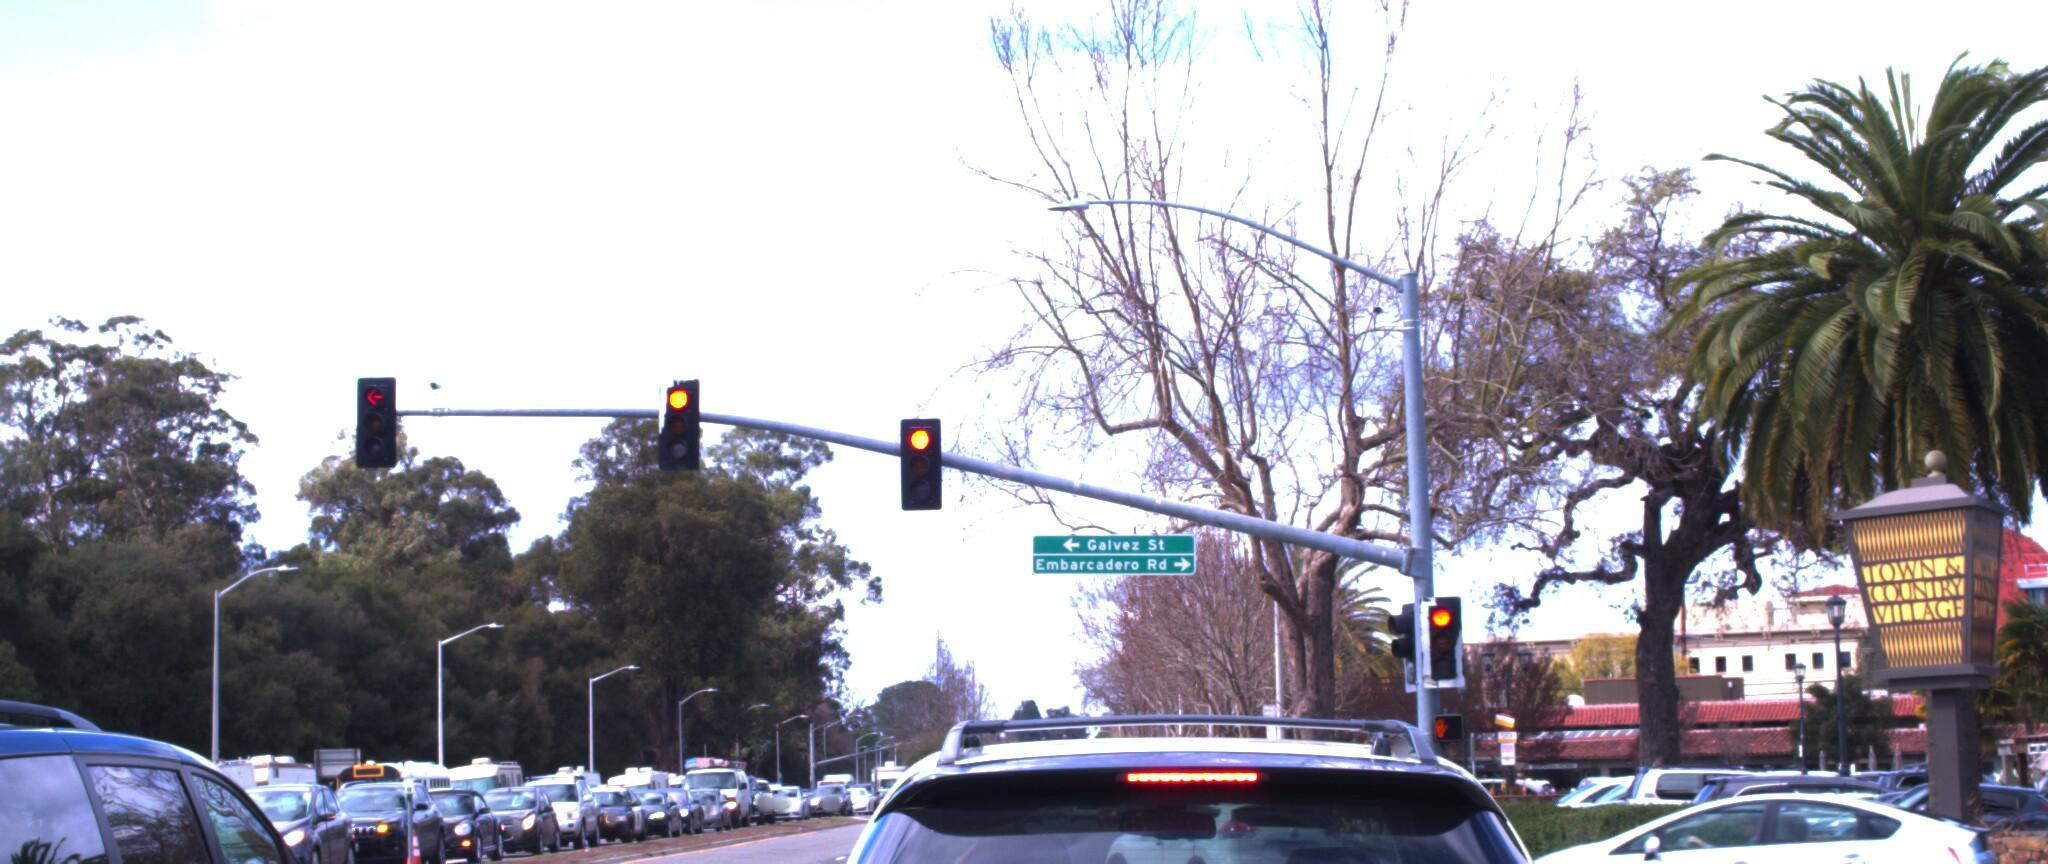car: (683, 676, 1721, 864), (0, 677, 444, 864), (1476, 771, 2011, 864), (1674, 752, 1981, 857), (191, 764, 371, 864), (296, 764, 456, 857), (380, 774, 519, 848), (509, 747, 619, 826), (2000, 774, 2048, 864)
other_vehicle: (0, 700, 98, 854)
